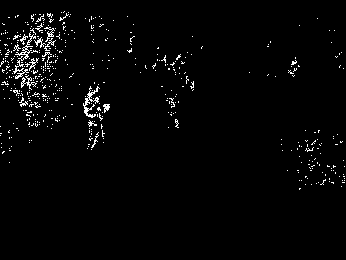person: (82, 84, 112, 150)
